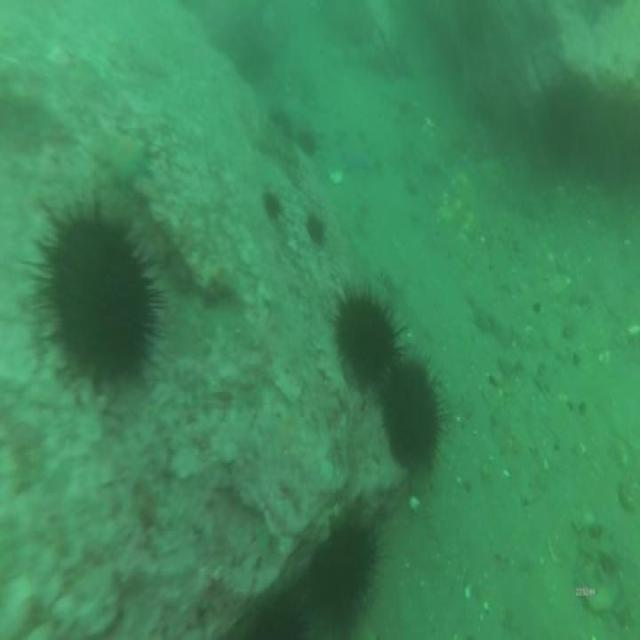echinus: (44, 221, 150, 379), (387, 360, 440, 468), (338, 291, 396, 381), (316, 531, 376, 618), (272, 106, 292, 131), (306, 213, 324, 240), (299, 128, 313, 158), (263, 194, 278, 220)
